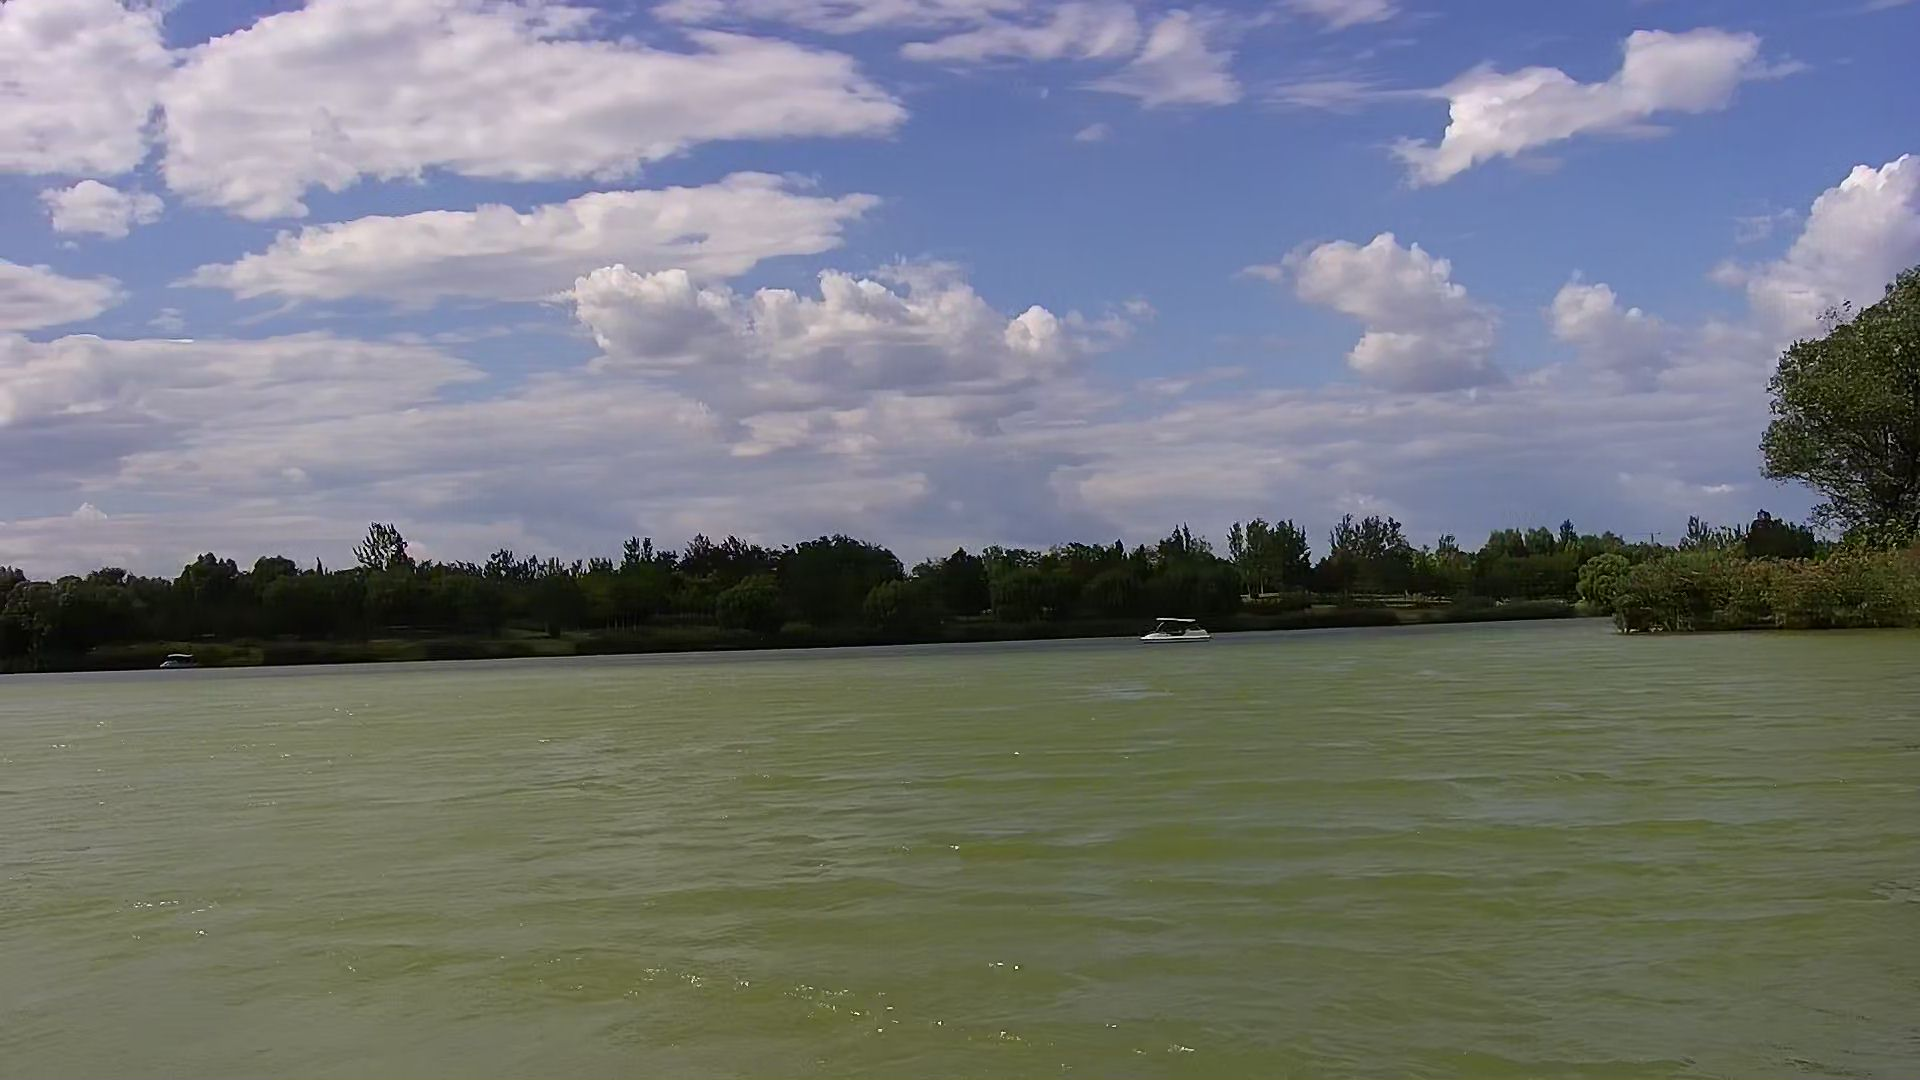boat: (1137, 615, 1207, 642)
